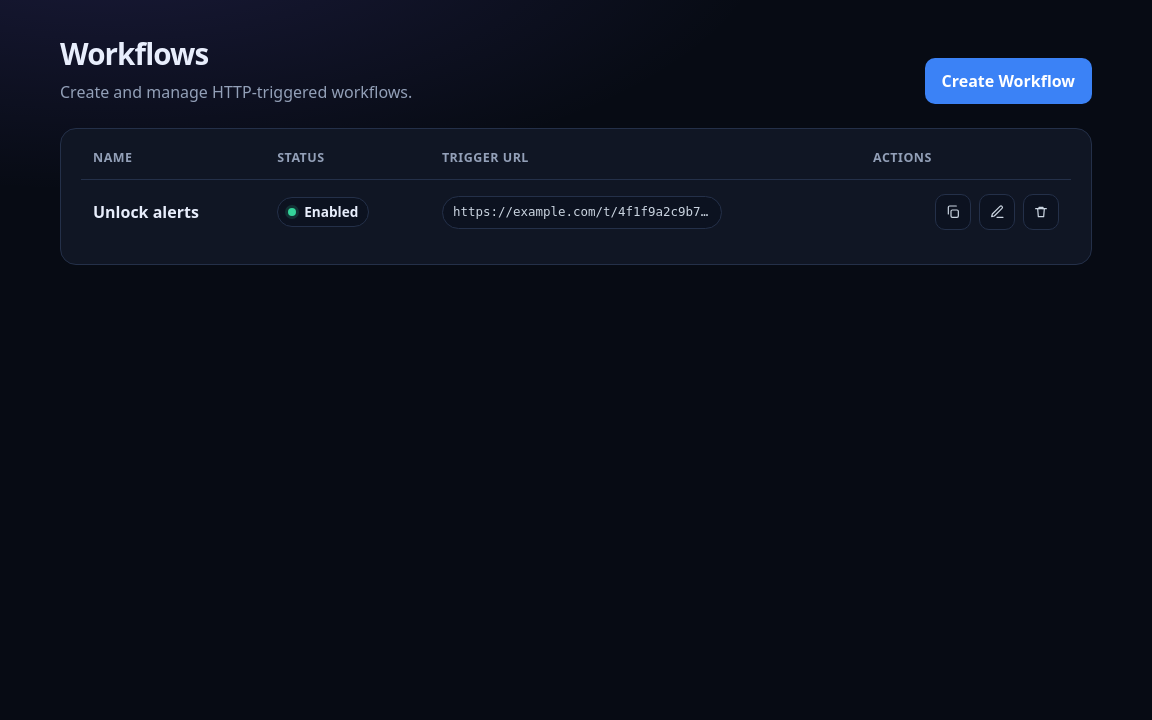
Test: WorkflowList › shows an error toast when delete fails
The image size is (1152, 720).
Click the button named "Delete Unlock alerts" at (1041, 212), box [1023,194,1059,230]
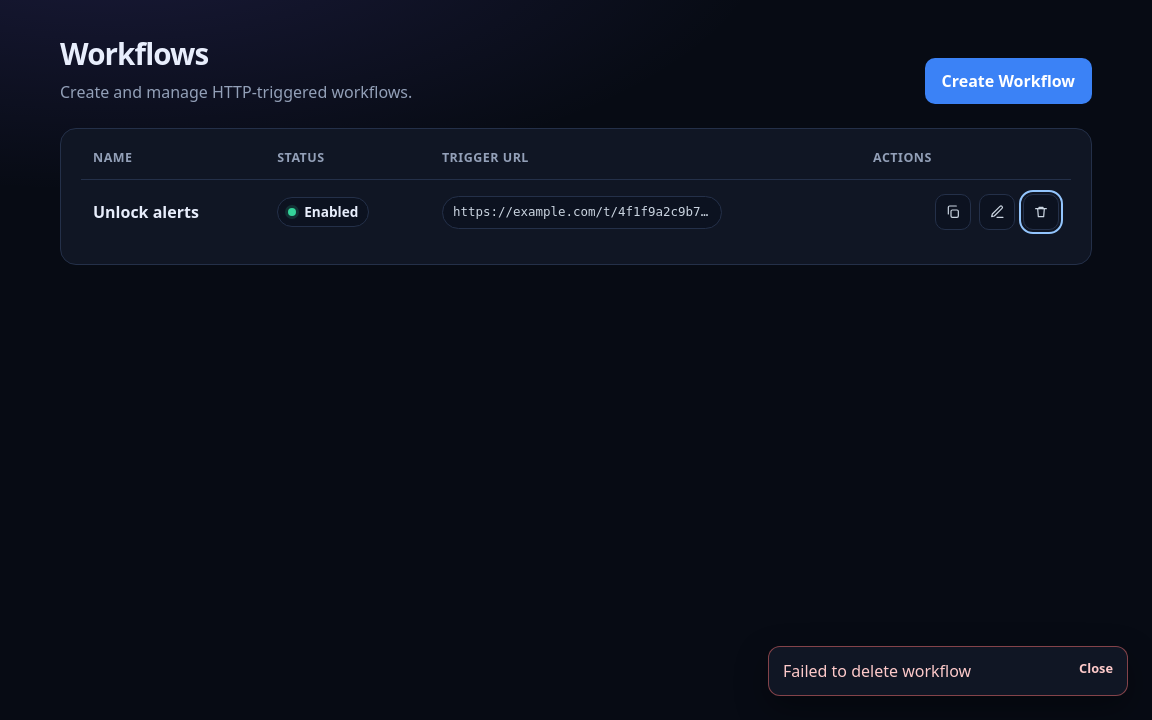
Expected: the text "Unlock alerts" is shown, [93,201,199,223]
Now the text "Failed to delete workflow" is shown, box [783,659,971,683]
